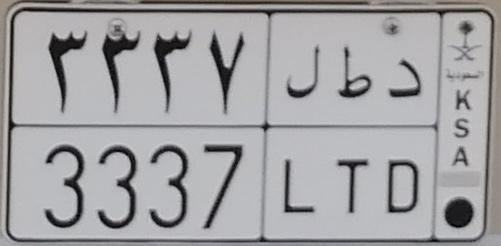3: (42, 30, 88, 229), (148, 28, 192, 230), (96, 30, 139, 230)
7: (200, 29, 245, 228)
D: (385, 58, 424, 214)
L: (280, 43, 322, 214)
T: (335, 44, 369, 214)
